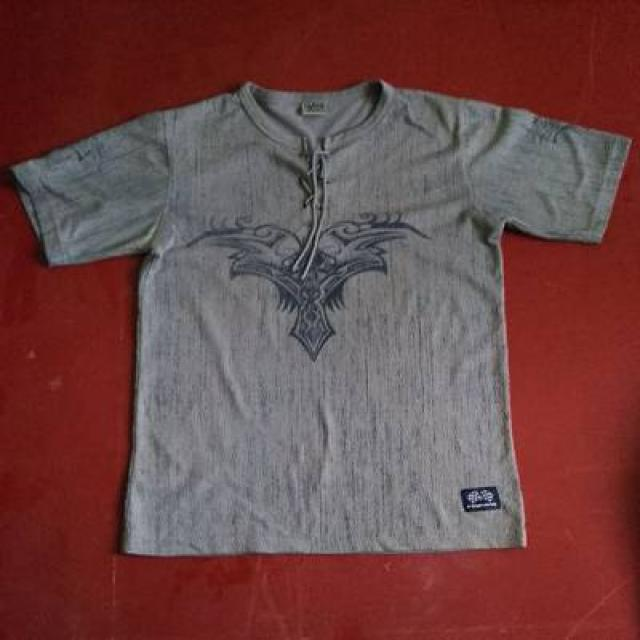Clothes -Biodegradable-: (9, 80, 630, 552)
